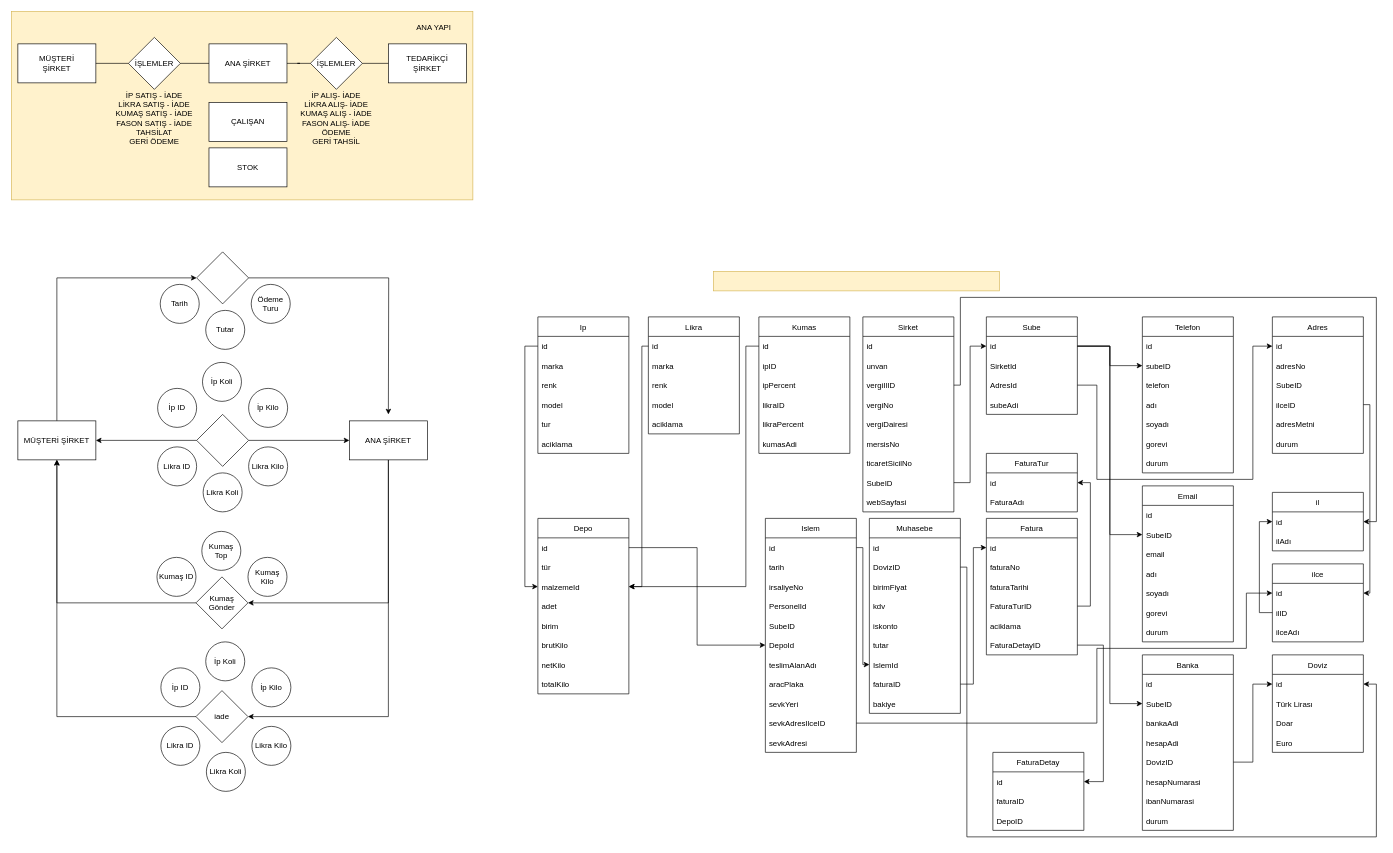
Some shapes in this 1393 by 853 pixel diagram are drawn without their labels. The centre of each missing label's shape, as x and y in pixels:
İp & Likra Gönderimi: point 222,440
TEMEL TABLOLAR: point 856,281
Ödeme: point 222,277
